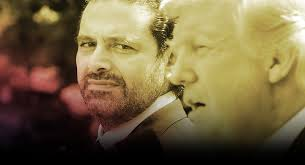middle_eastern_male: (79, 7, 162, 108)
